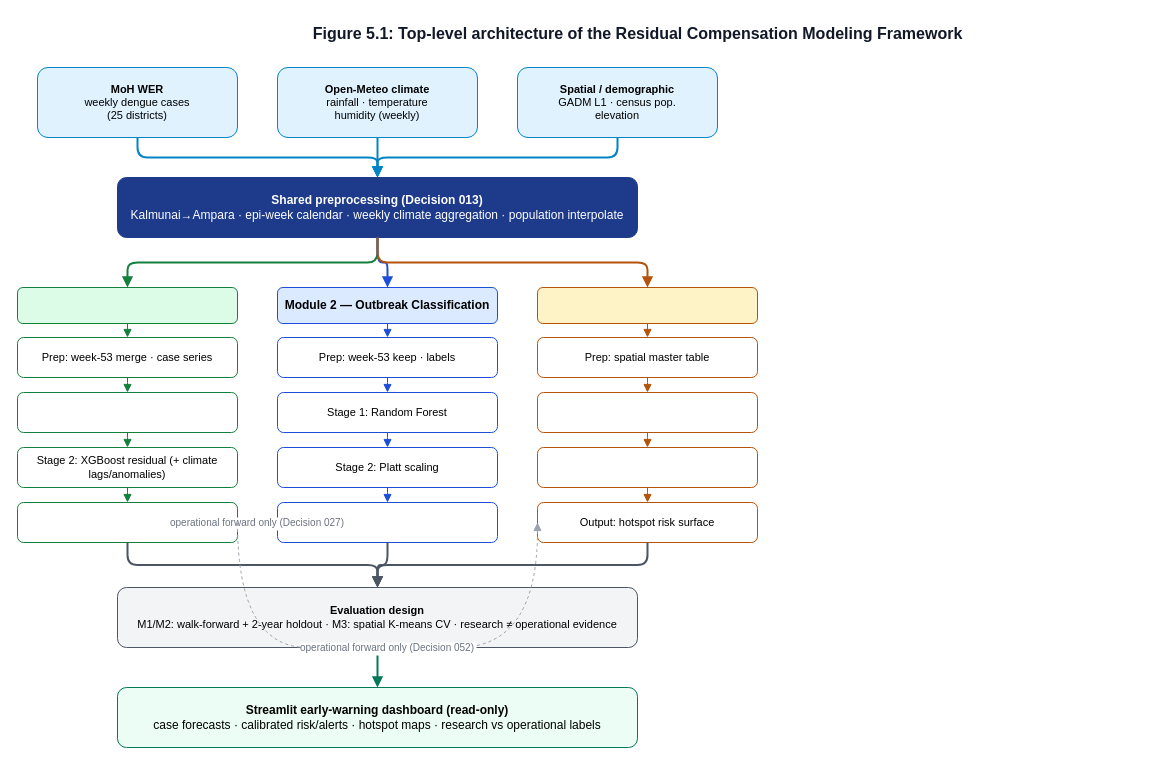
Image size: 1155x765. Some labels were removed from this diagram. The shapes that lost their labels are listed below. From the top down, each one's centre as x and y in pixels, then its label:
At [127,305]: "Module 1 — Case Forecasting".
At [647,305]: "Module 3 — Spatial Hotspots".
At [127,412]: "Stage 1: SARIMA (cases only)".
At [647,412]: "Stage 1: KDE + Moran’s I".
At [647,467]: "Stage 2: RF relative residual (α=1)".
At [127,522]: "Output: weekly case forecast".
At [387,522]: "Output: alert / risk tiers".
